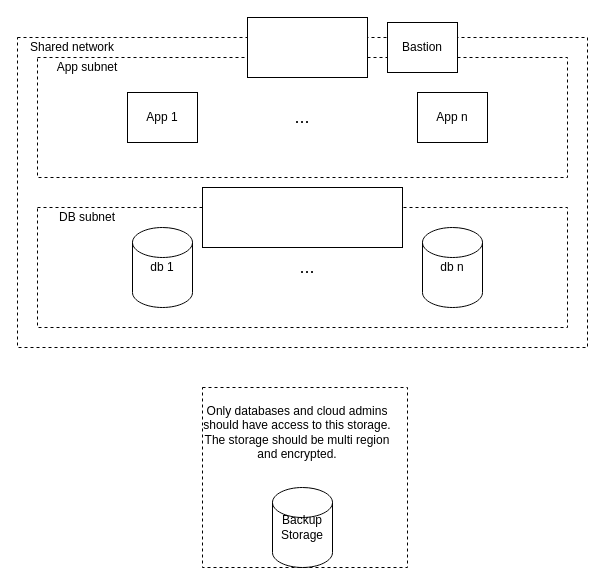
This 605x585 diagram has some shape labels left out. The shapes that lost their labels are listed below. From the top down, each one's centre as x and y in pixels, then its label:
point (307, 47): Envoy Ingress
point (302, 217): Firewall Allow -> Apps & bastion
